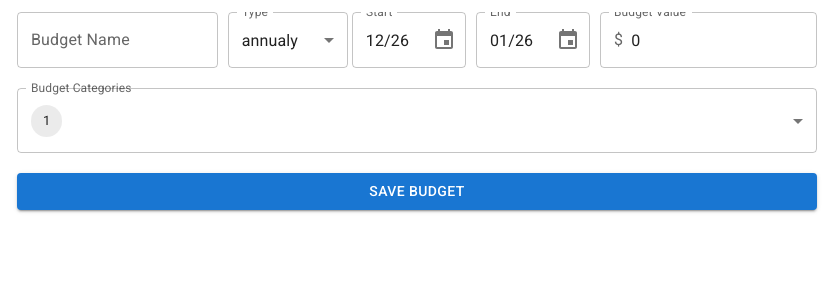
Scenario: BudgetForm › should not save a budget with an end date before the start date
Type "Monthly groceries" into the field labelled "Budget Name" at {"x": 117, "y": 40}, box left=17, top=12, right=218, bottom=68
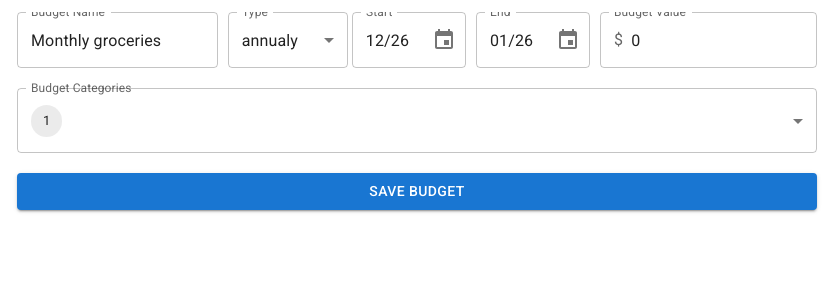
Replace the text in the field labelled "Budget Value" with "1000" at {"x": 724, "y": 40}, box left=631, top=12, right=817, bottom=68
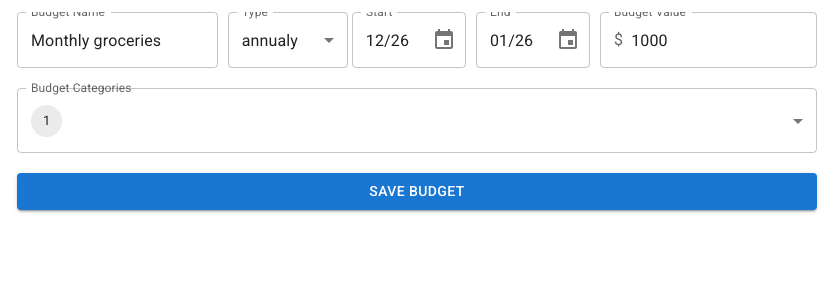
Click the button "Save Budget" at {"x": 417, "y": 191}, box left=17, top=173, right=817, bottom=210
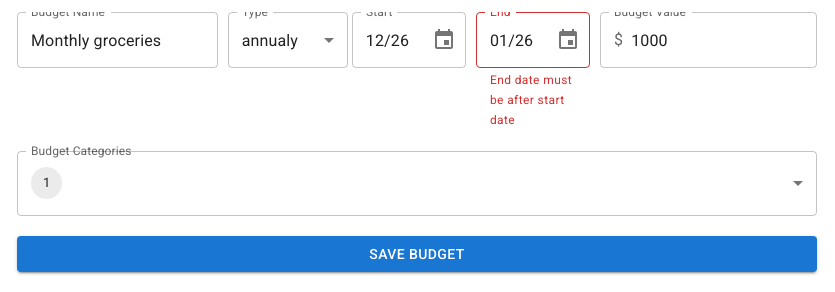
Expected: the text "End date must be after start date" is shown, left=490, top=71, right=576, bottom=131
